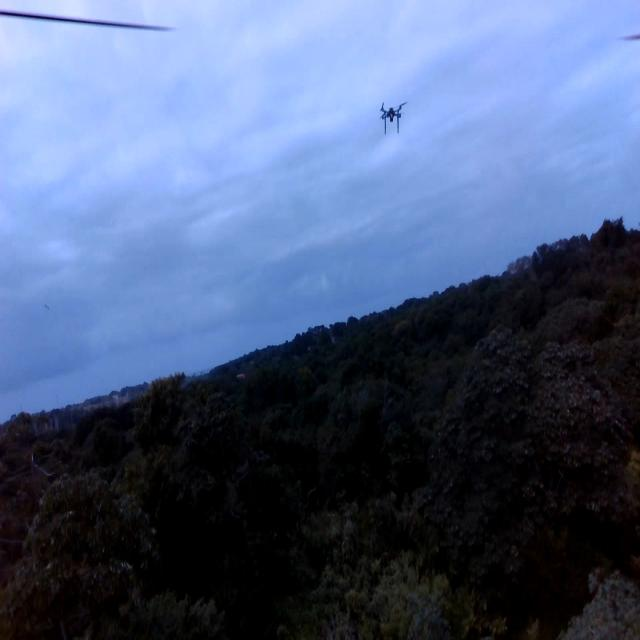-uav-: (372, 77, 411, 142)
